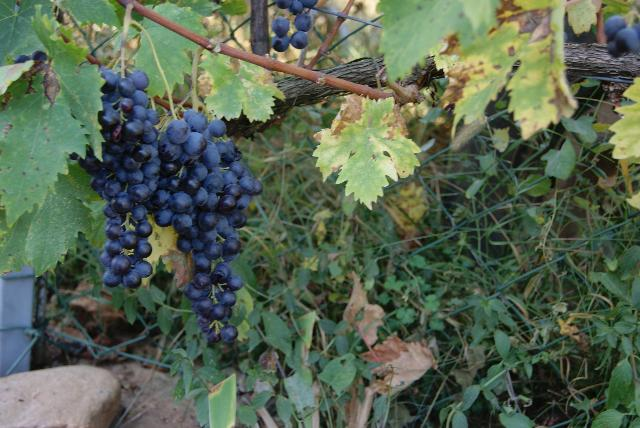grapes: (151, 111, 262, 342), (79, 69, 160, 289)
